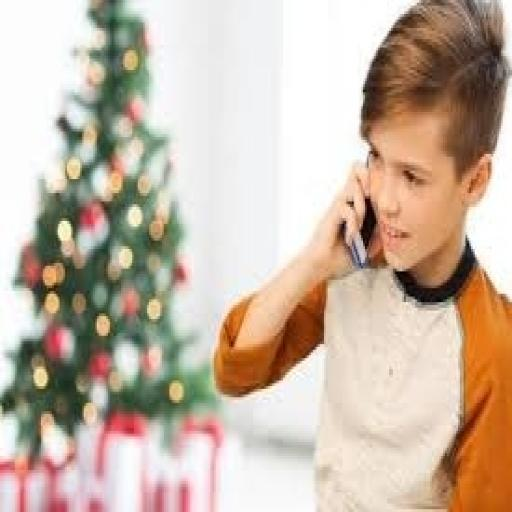calling: (210, 0, 510, 509)
